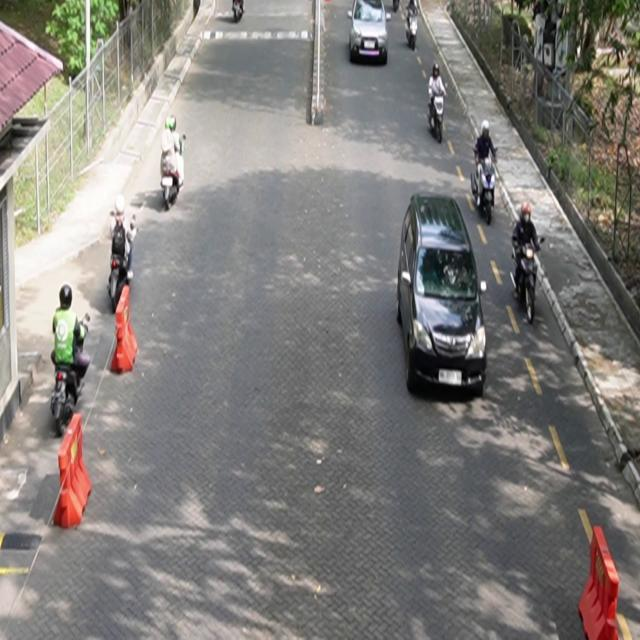car: (397, 193, 488, 398), (348, 1, 391, 66)
